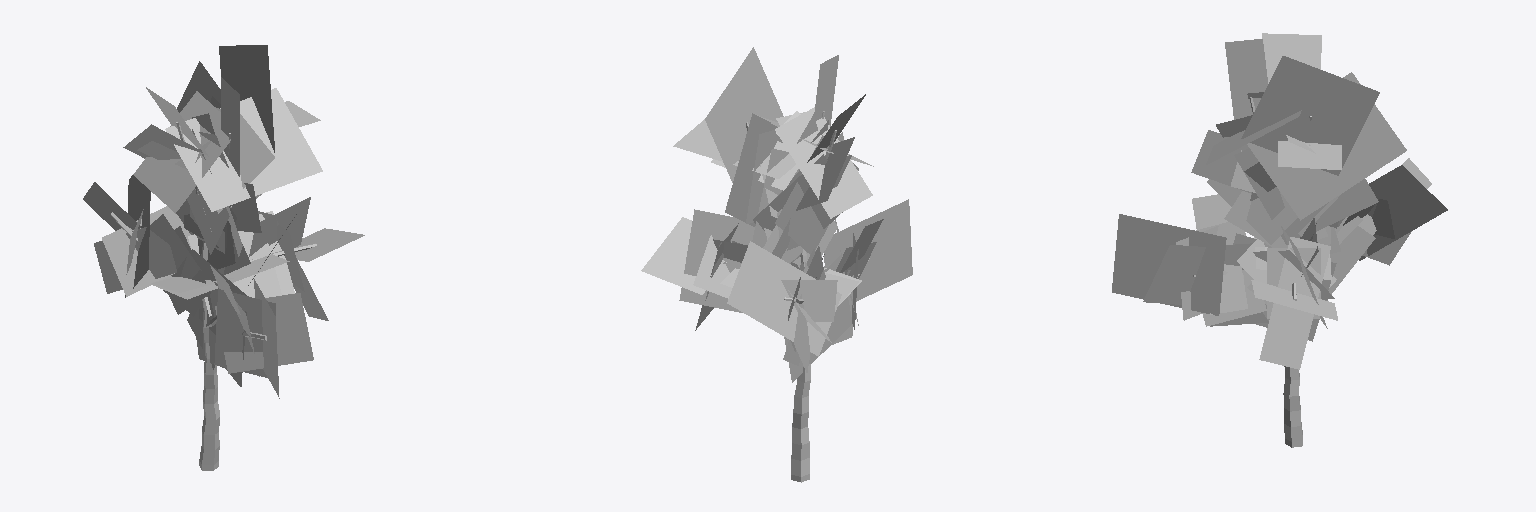
File: tree3.obj
3 renders of one model, left to right at view 1: azimuth 30°, elevation 25°; view 2: azimuth 150°, elevation 25°; view 3: azimuth 270°, elevation 25°, orthographic.
Bounding box in the file's own units: 7.29 × 14.75 × 10.87.